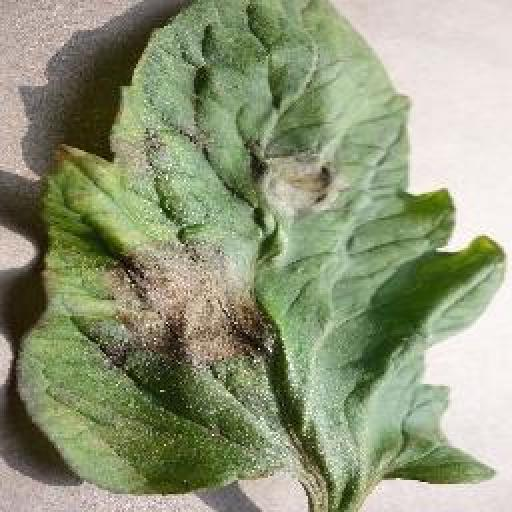disease_tomato: (16, 0, 506, 492)
